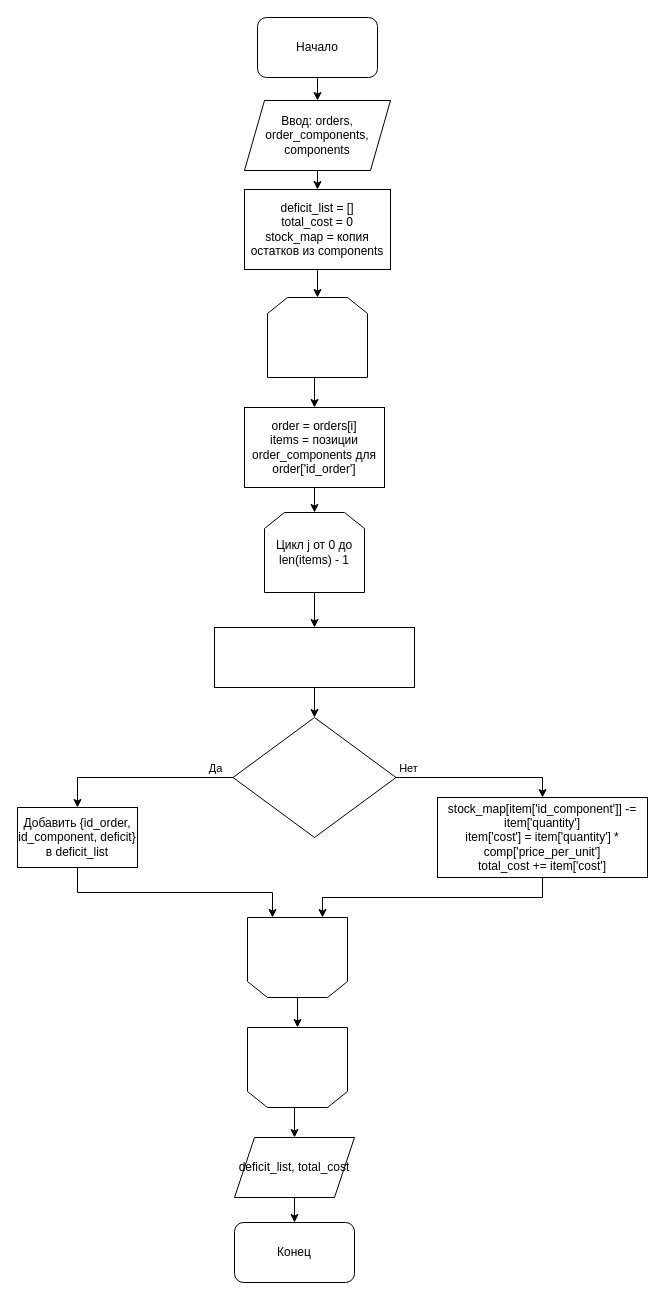
Some shapes in this 665 by 1300 pixel diagram are drawn without their labels. Each missing label, with the centre of its shape:
item = items[j] comp = components[item['id_component']]: point 314,657
stock_map[item['id_component']] < item['quantity']: point 314,777
Конец цикла i: point 297,1067
Конец цикла j: point 297,957
Цикл i от 0 до len(orders) - 1: point 317,337
